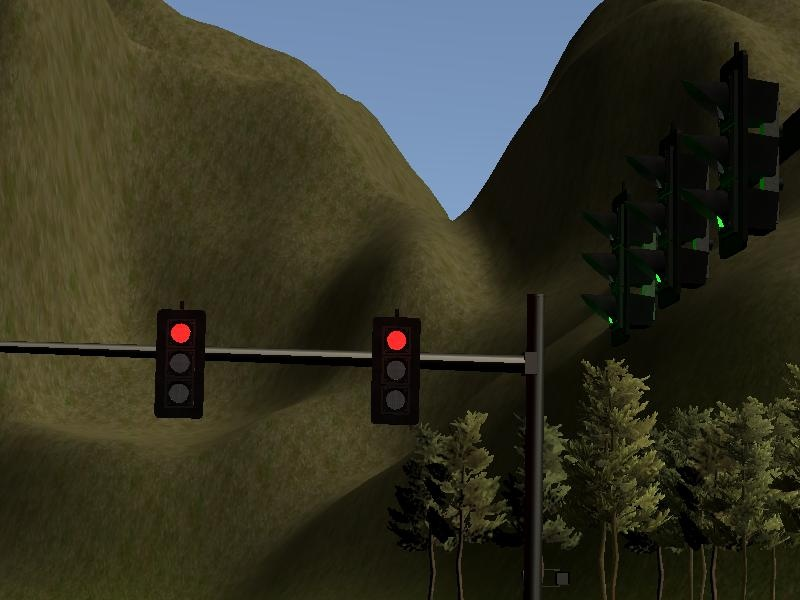RED: (153, 311, 203, 418), (372, 317, 422, 424)
